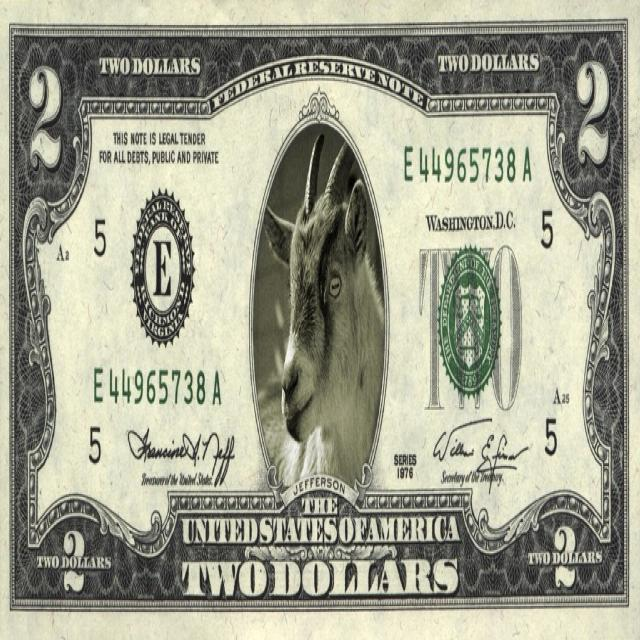Goat: (263, 133, 385, 488)
